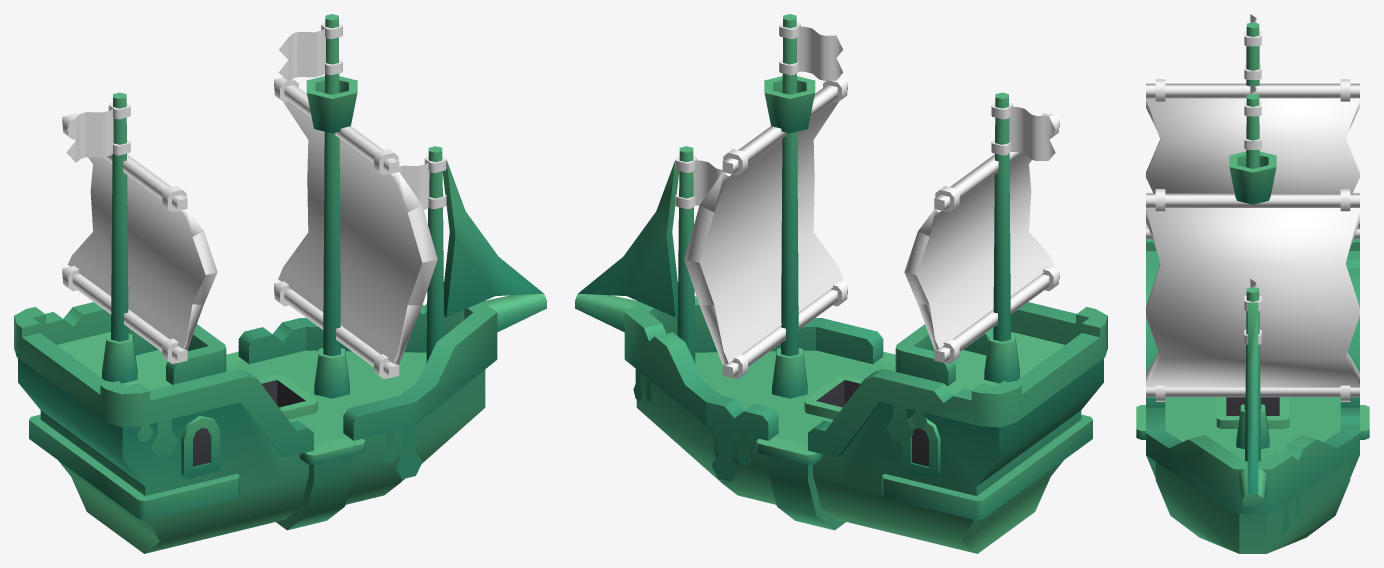
The model's file is sea_raider.glb.
3 renders of one model, left to right at view 1: azimuth 30°, elevation 25°; view 2: azimuth 150°, elevation 25°; view 3: azimuth 270°, elevation 25°, orthographic. The views are drawn at different scales.
Parts seen in each view (by area): view 1: ship-ghost, sail-a, sail-b, flag-c, flag-b, flag-a; view 2: ship-ghost, sail-a, sail-b, flag-b, flag-c, flag-a; view 3: sail-a, ship-ghost, sail-b, flag-b, flag-c.
Part boxes in pixels (bbox=[...]): ship-ghost: bbox=[14, 14, 546, 553]; sail-a: bbox=[274, 77, 437, 378]; sail-b: bbox=[62, 113, 217, 363]; flag-c: bbox=[66, 102, 130, 162]; flag-b: bbox=[279, 22, 342, 82]; flag-a: bbox=[399, 156, 446, 209]; ship-ghost: bbox=[575, 14, 1107, 553]; sail-a: bbox=[684, 77, 847, 378]; sail-b: bbox=[904, 113, 1059, 363]; flag-b: bbox=[779, 22, 843, 80]; flag-c: bbox=[991, 102, 1055, 160]; flag-a: bbox=[675, 156, 722, 208]; sail-a: bbox=[1146, 189, 1359, 401]; ship-ghost: bbox=[1136, 22, 1369, 553]; sail-b: bbox=[1146, 79, 1359, 239]; flag-b: bbox=[1244, 84, 1261, 149]; flag-c: bbox=[1244, 14, 1261, 79].
Size of the model in its own units: 0.7 by 0.658 by 0.317.
2 materials, 1 textured.
